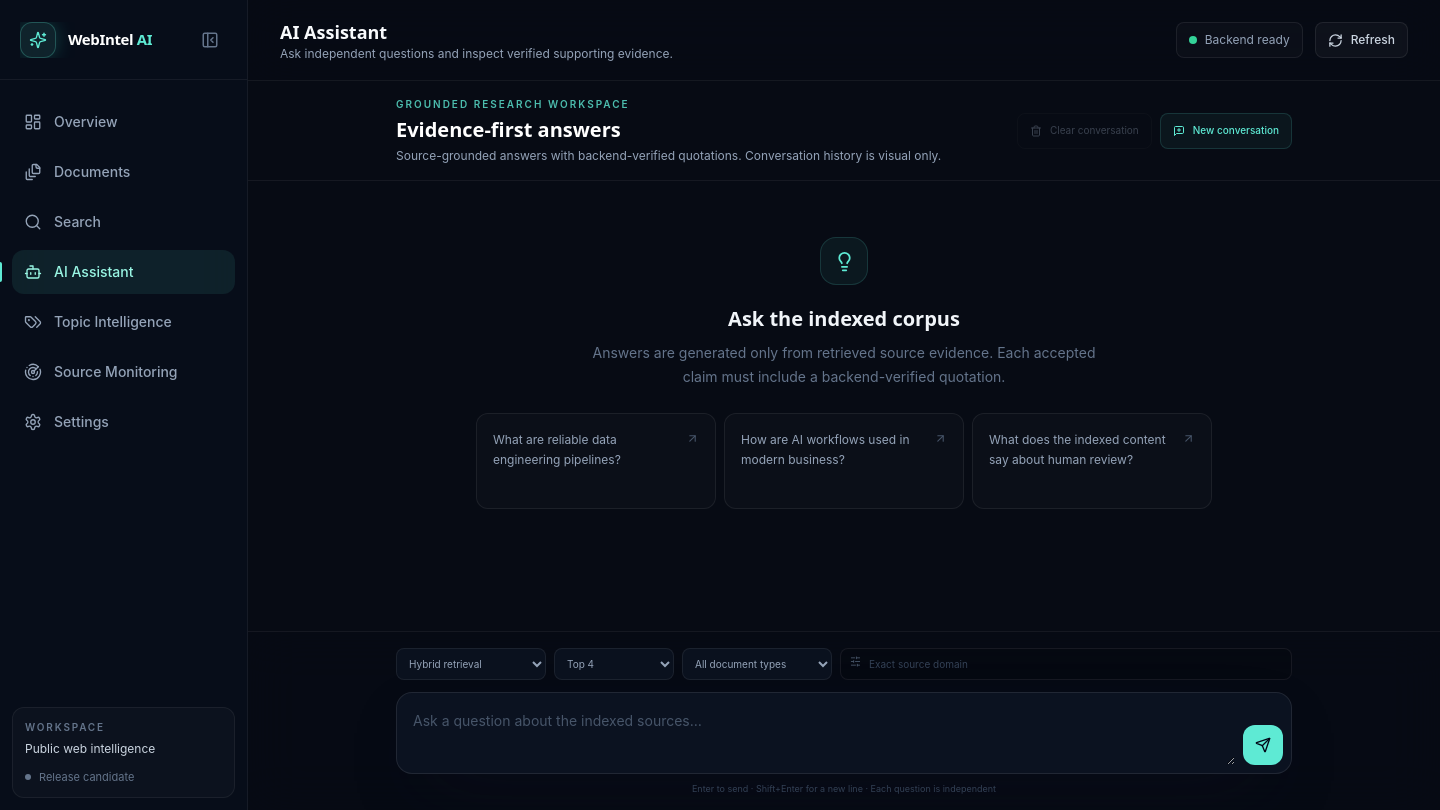
Test case: AssistantPage › submits exact retrieval controls and renders grounded citations as safe text
Select "Semantic retrieval" in the dropdown named "Assistant retrieval mode" at (471, 664), box [396, 648, 546, 680]
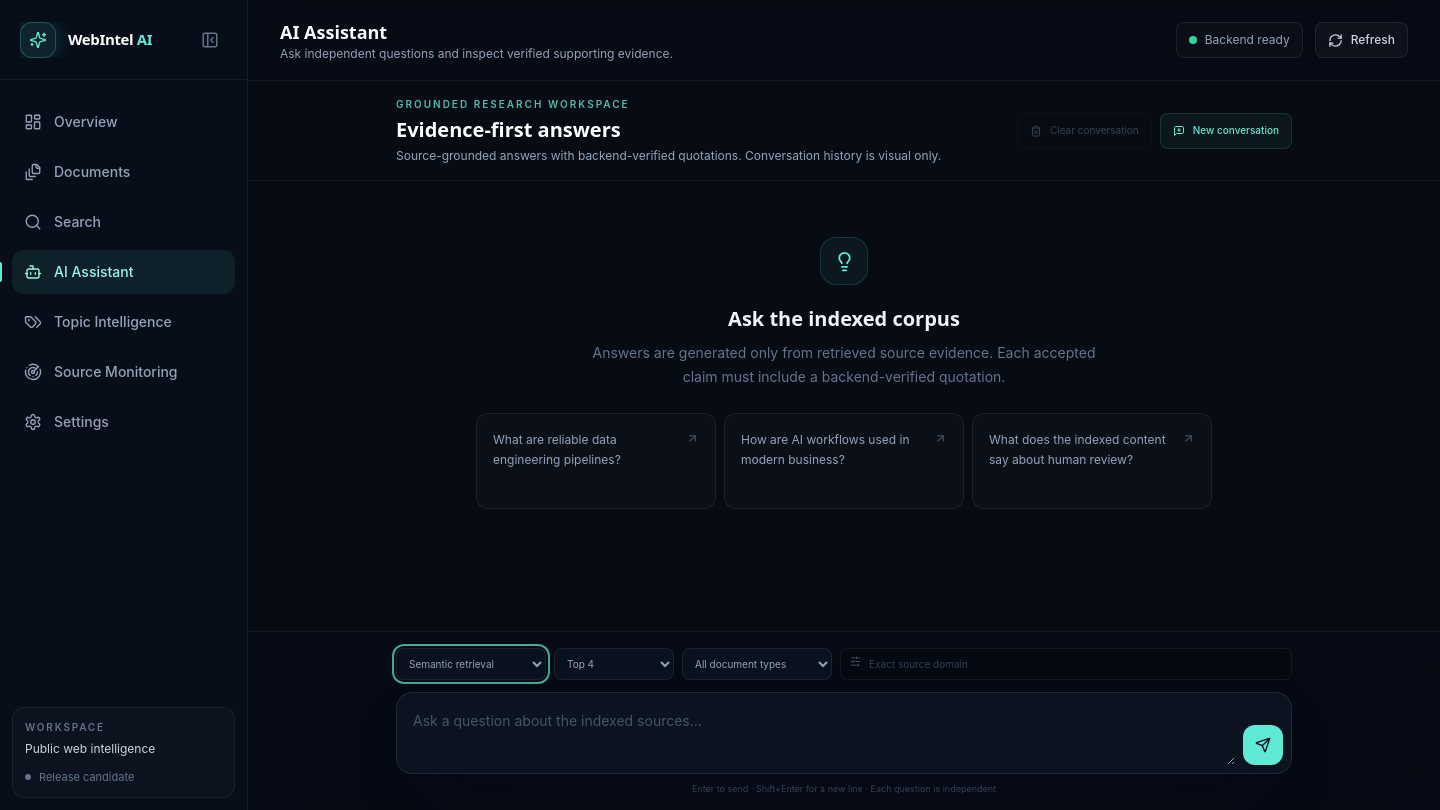
Select "Top 6" in the dropdown named "Evidence count" at (614, 664), box [554, 648, 674, 680]
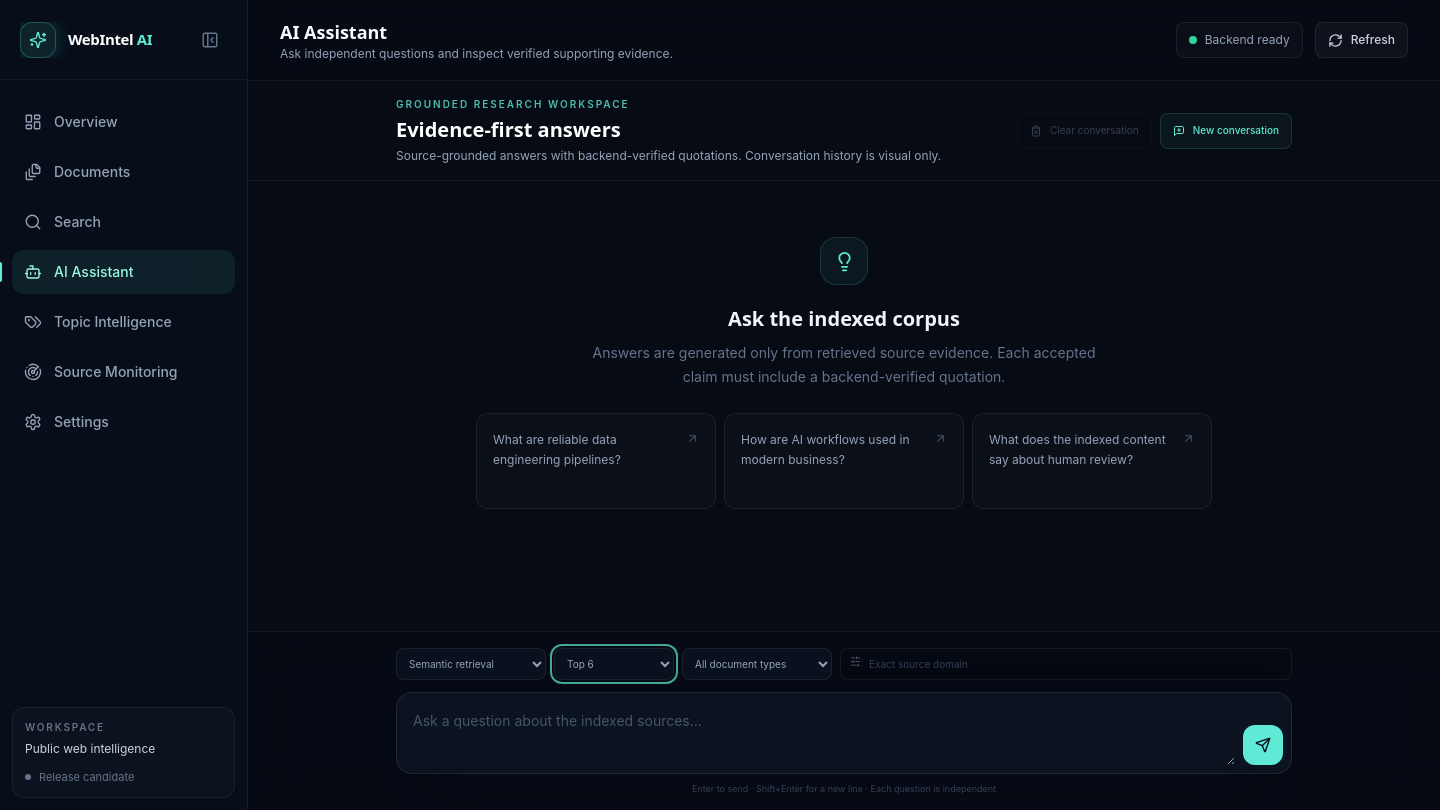
Select "Articles" in the dropdown named "Assistant document type" at (757, 664), box [682, 648, 832, 680]
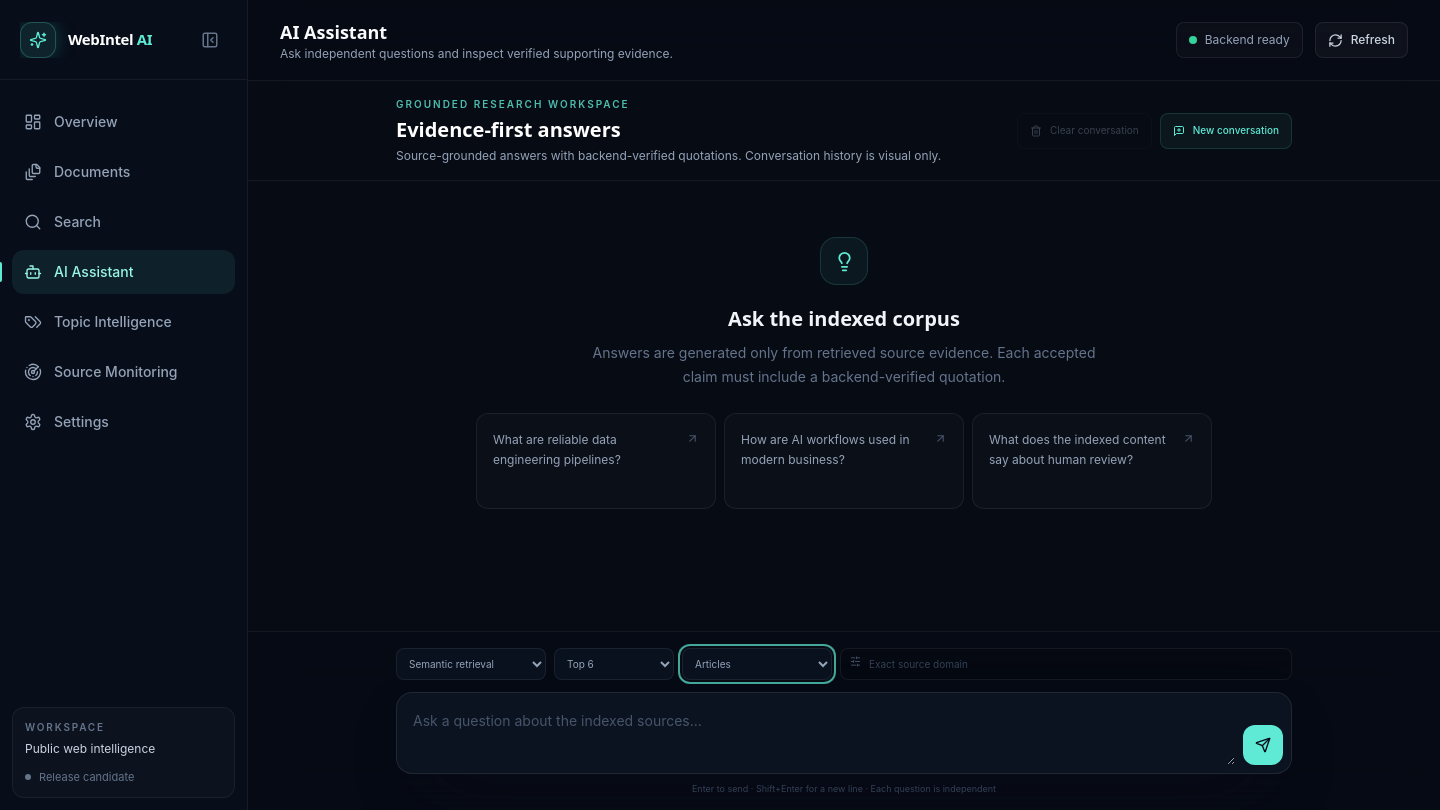
Type "example.com" into the field named "Assistant source domain" at (1066, 664), box [840, 648, 1292, 680]
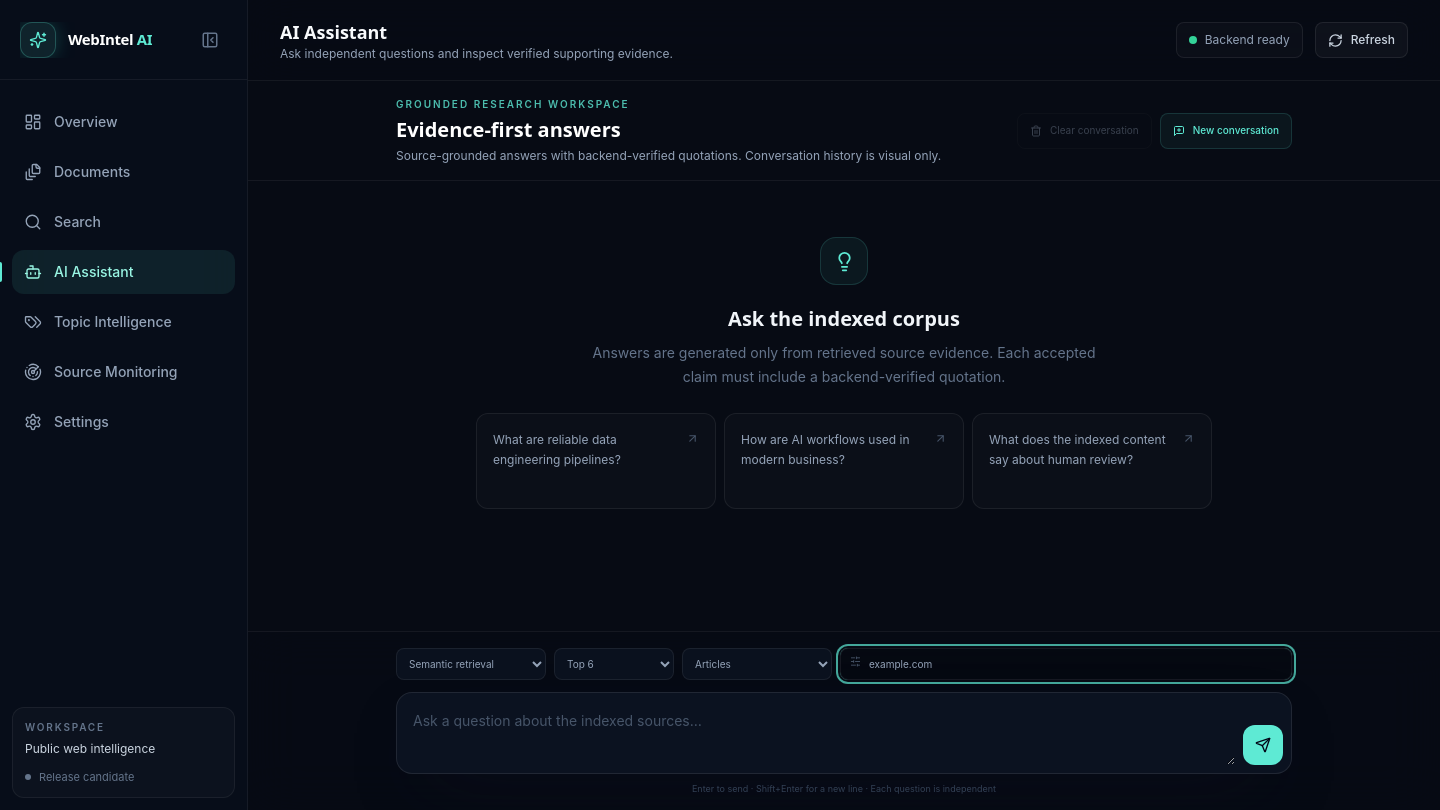
Type "What makes intelligence pipelines reliable?" into the text box labelled "question" at (820, 732), box [405, 700, 1235, 764]
Then press Enter
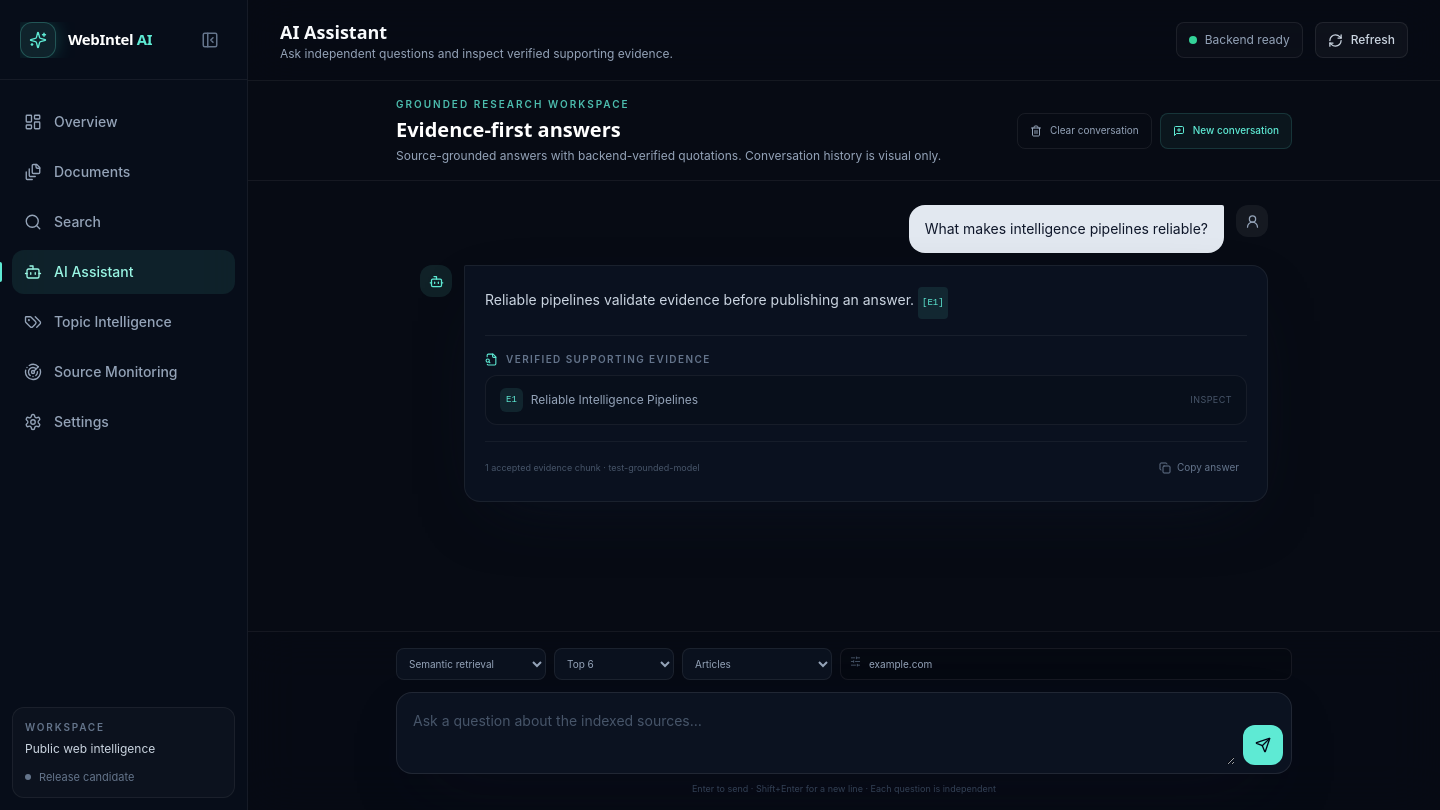
expect the text "Reliable pipelines validate evidence before publishing an answer." is shown: met, box [485, 291, 914, 308]
expect the text "[E1]" is shown: met, box [918, 287, 948, 319]
Click the text "Inspect" at (1211, 400), box [1190, 392, 1232, 408]
(page scrolled)
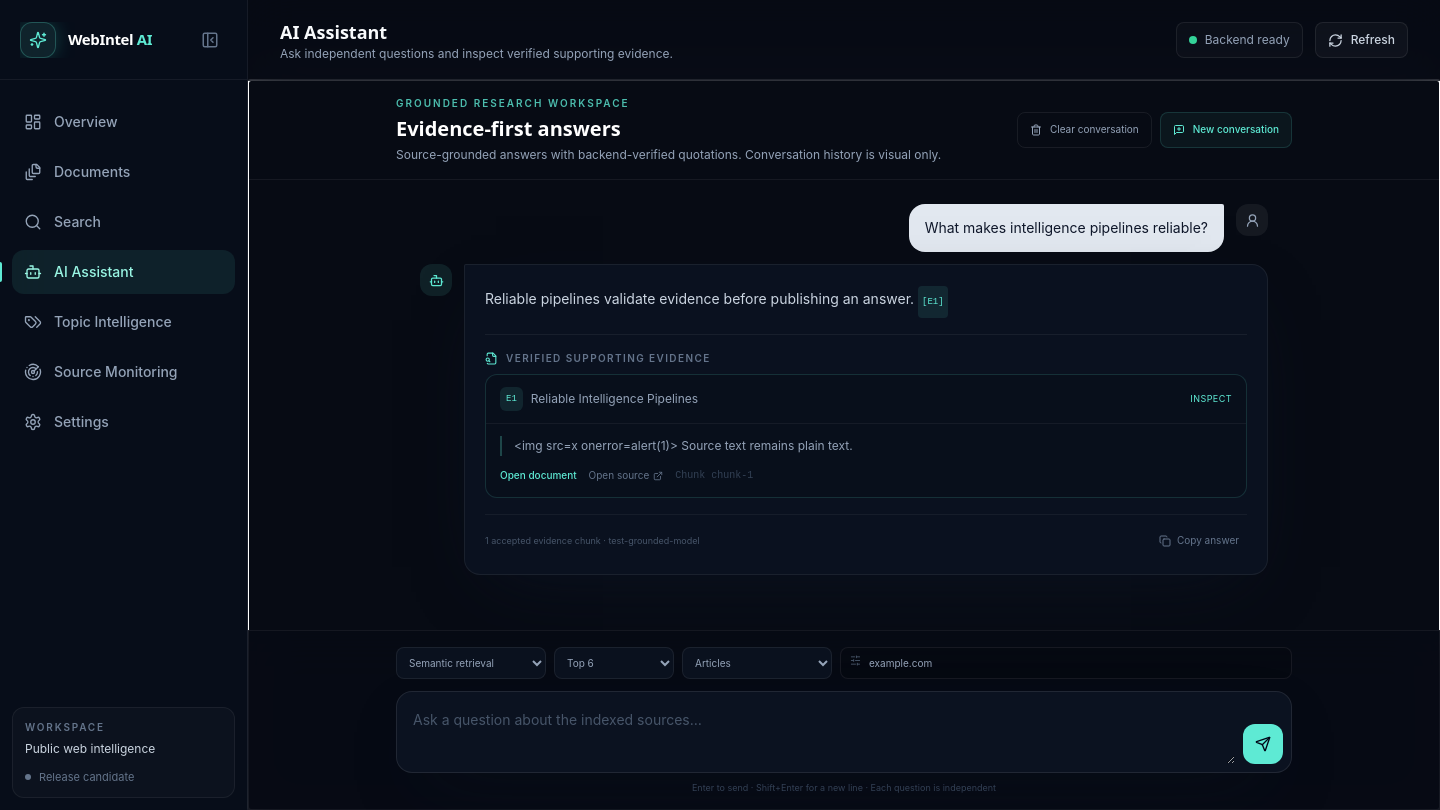
expect the text "<img src=x onerror=alert(1)> Source text remains plain text." is shown: met, box [500, 436, 1232, 456]
